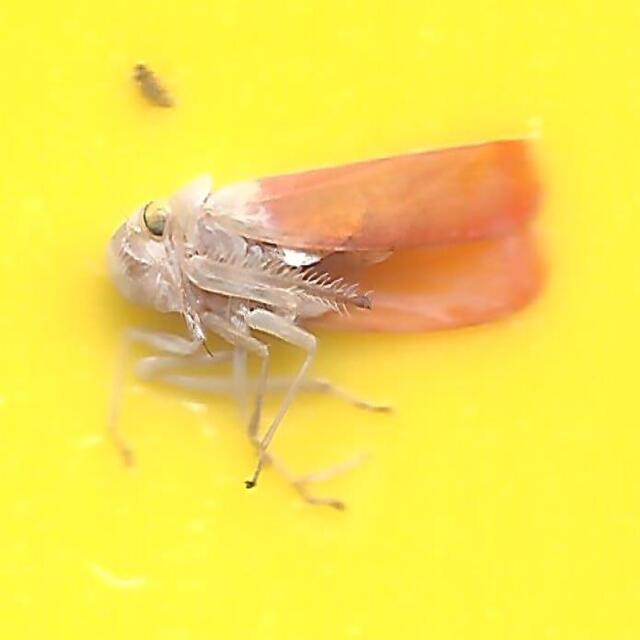Hemiptera: (92, 135, 548, 505)
